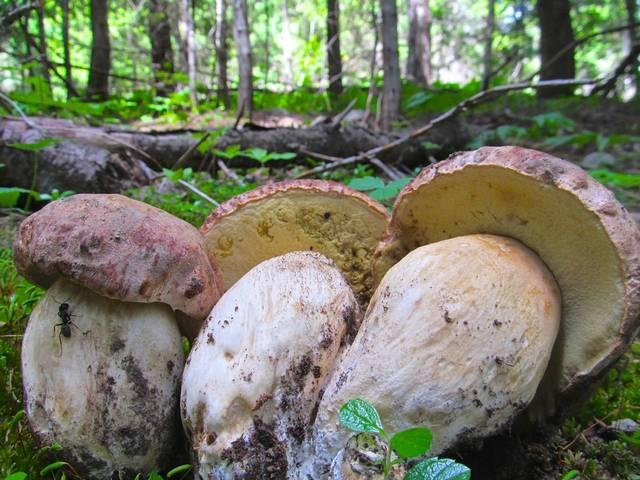edible_mushroom: (342, 143, 639, 480), (178, 177, 389, 479), (12, 191, 223, 478)
